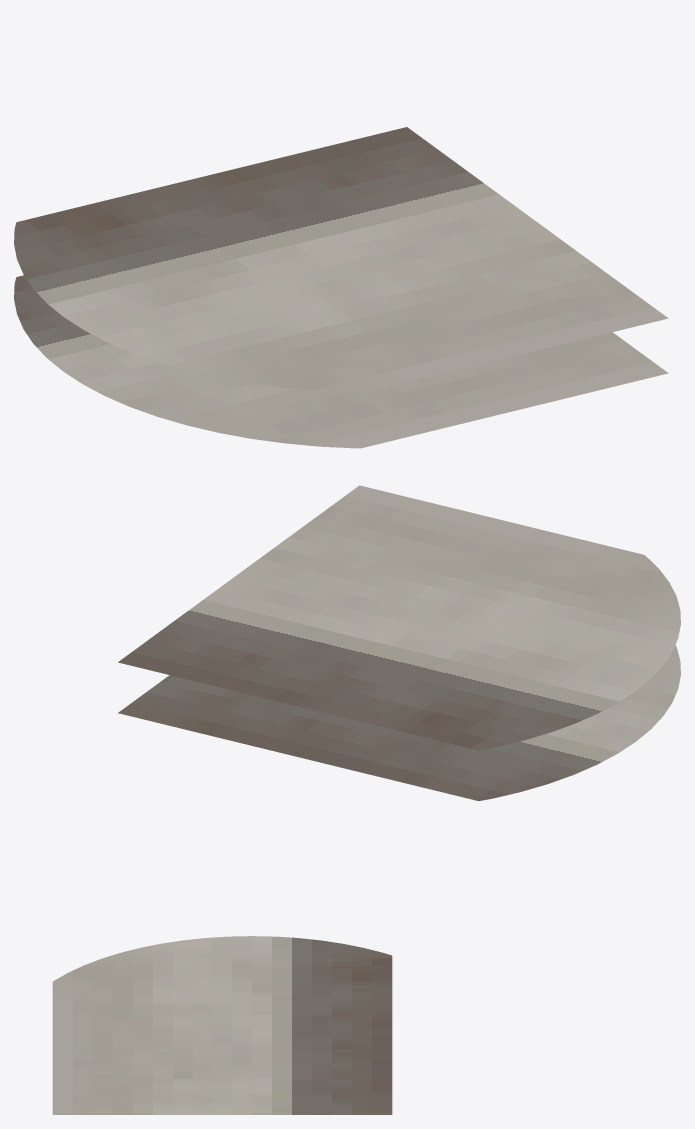
3 renders of one model, top to bottom at view 1: azimuth 30°, elevation 25°; view 2: azimuth 150°, elevation 25°; view 3: azimuth 270°, elevation 25°, orthographic. The views are drawn at different scales.
Size of the model in its own units: 1.47 by 0.23 by 2.89.
